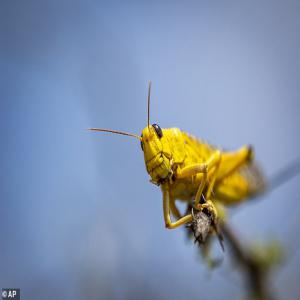locust: (125, 89, 283, 233)
